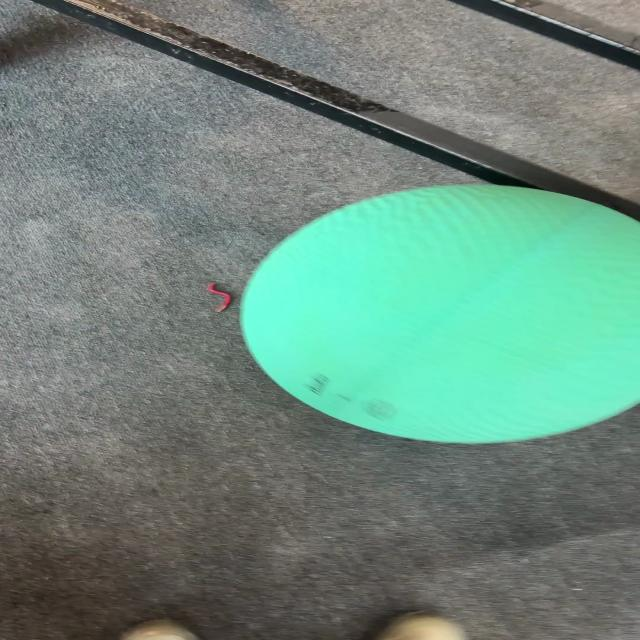Algae: (237, 183, 639, 445)
